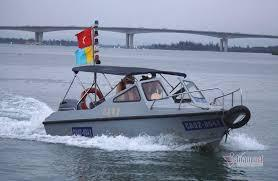Ship: (44, 66, 252, 148)
